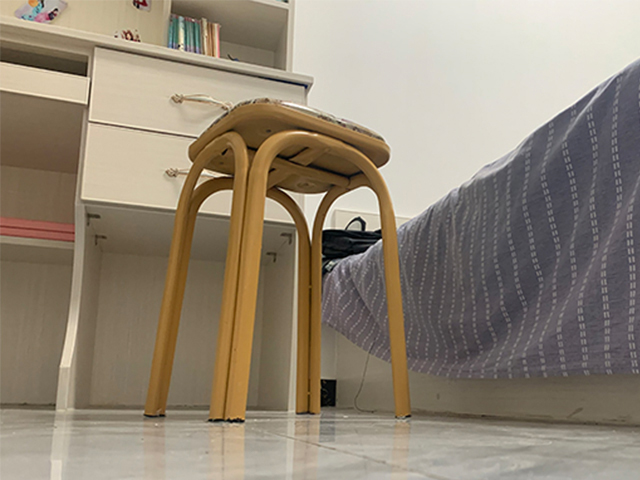bed: (323, 58, 640, 428)
stool: (143, 98, 413, 423)
table: (1, 22, 303, 414)
